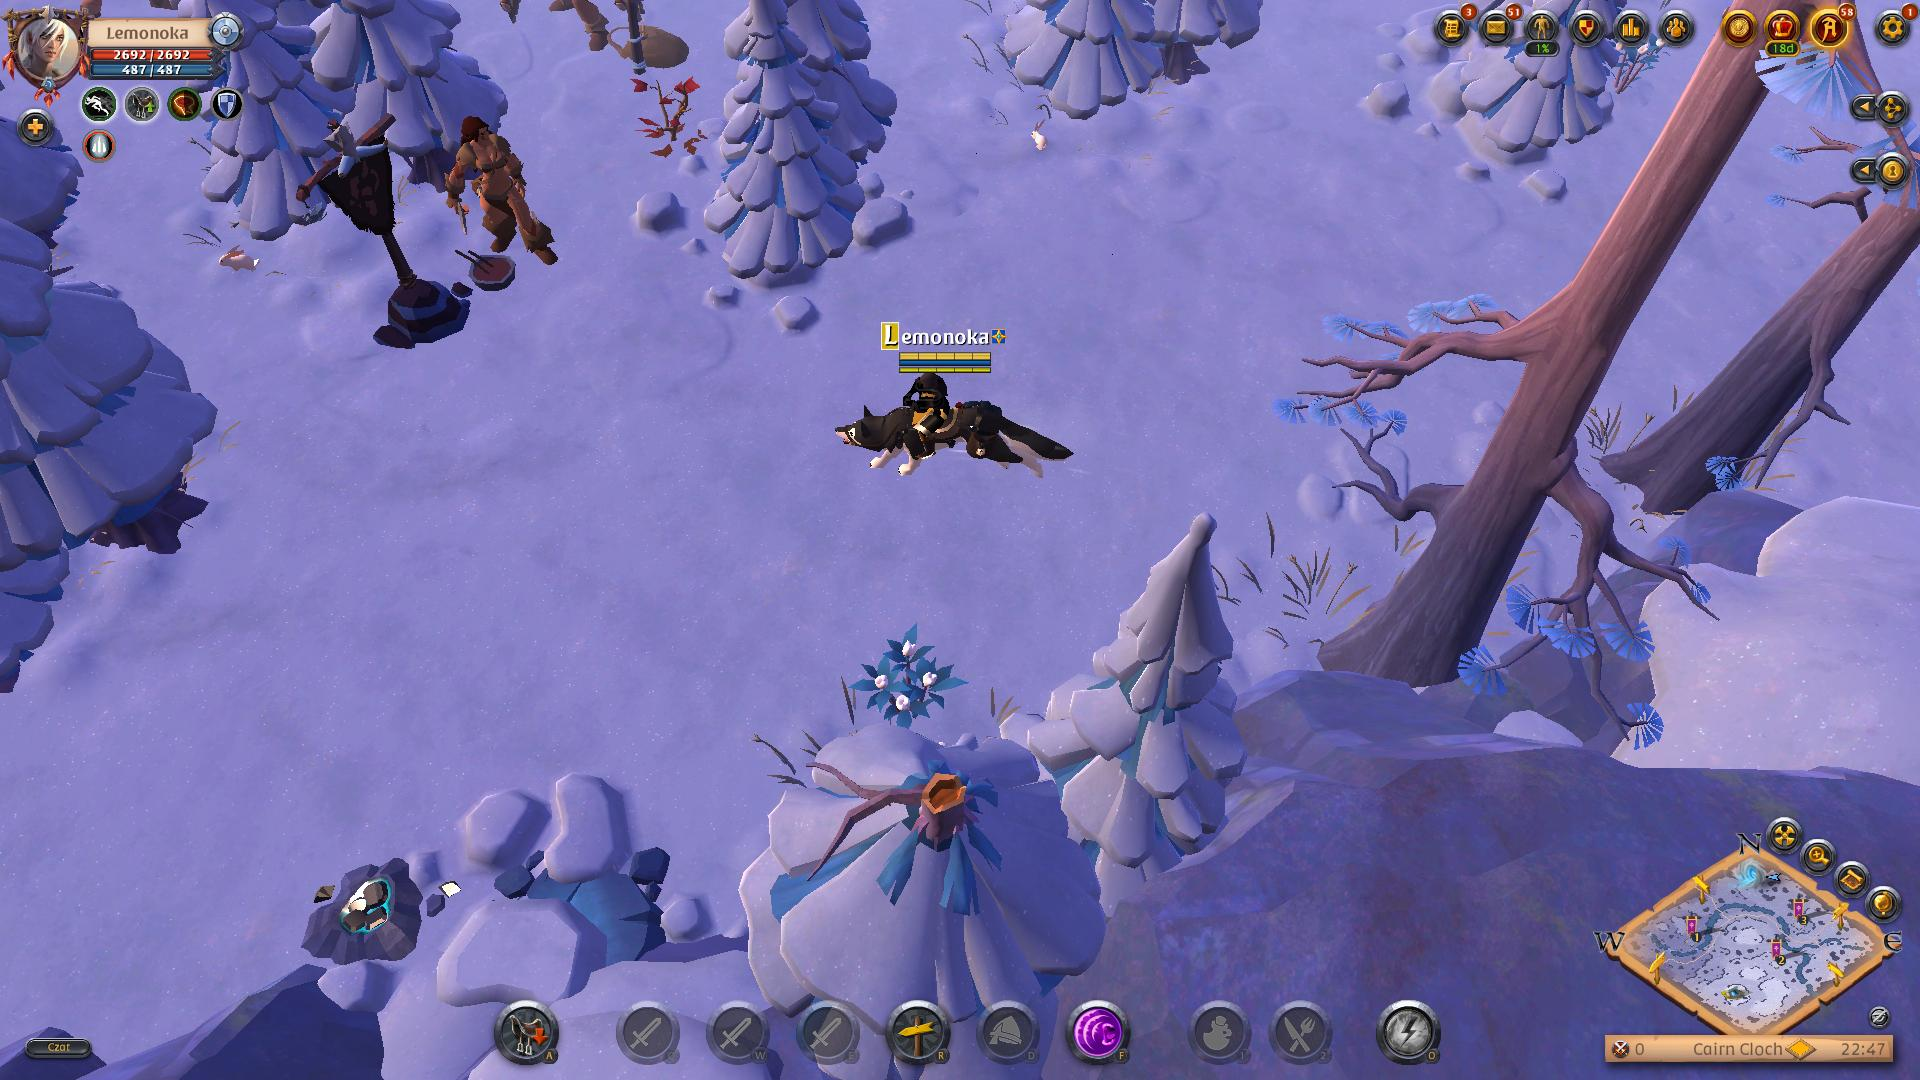fiber tier 4: (856, 628, 971, 745)
